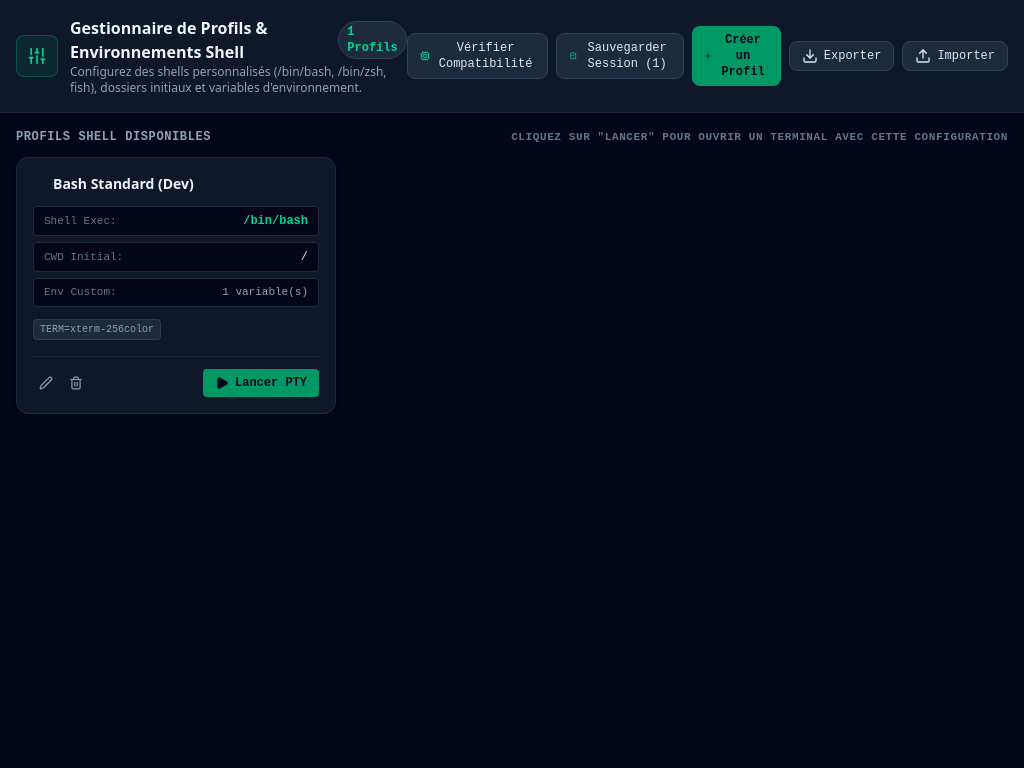
Test: ProfileManager Component › opens the create profile modal
Click the button "Créer un Profil" at (736, 56), box [692,26,781,86]
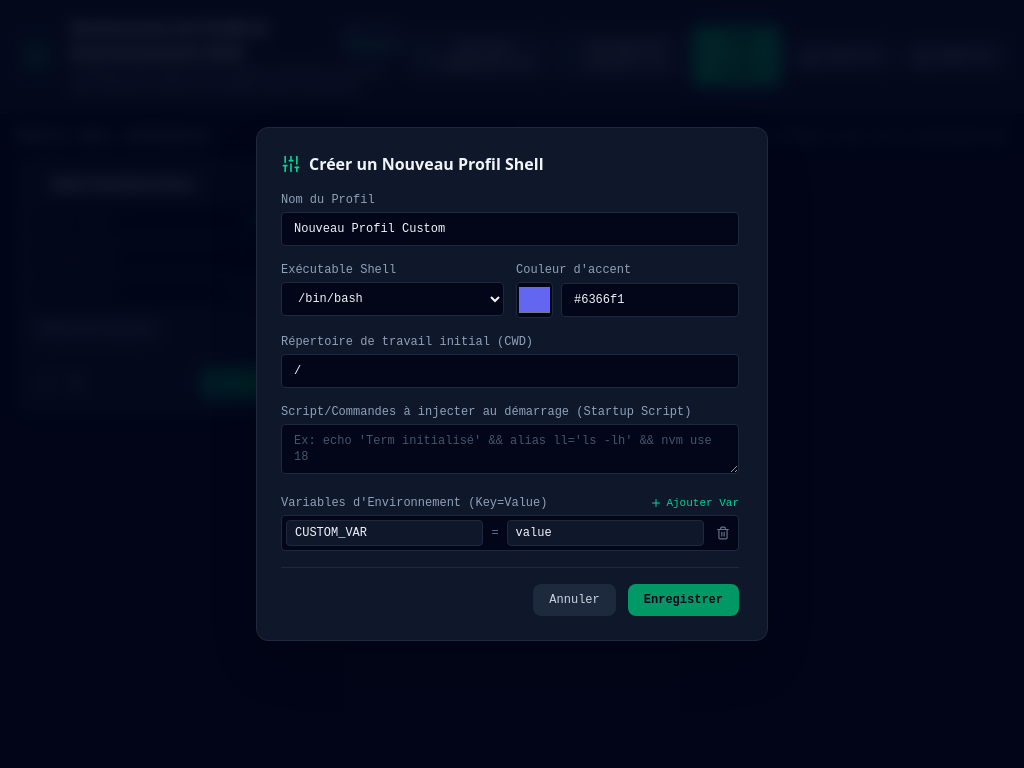
Expected: the field with placeholder "Ex: Python Data Science" below "Nom du Profil" is shown, [281,212,739,246]
